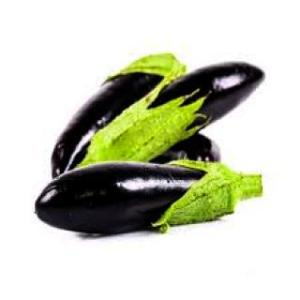eggplant: (96, 61, 262, 163), (34, 160, 262, 232)
